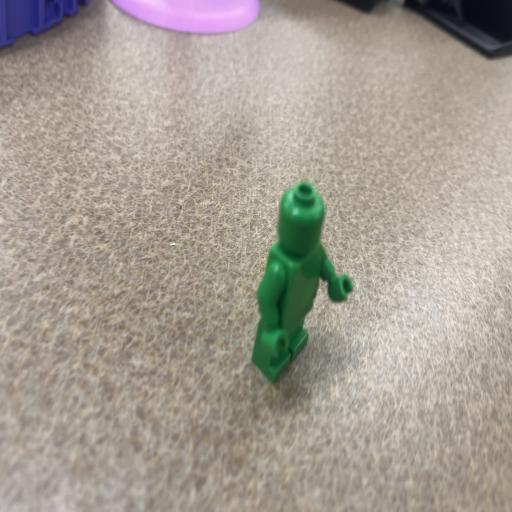Lego-Minifig: (252, 182, 353, 382)
